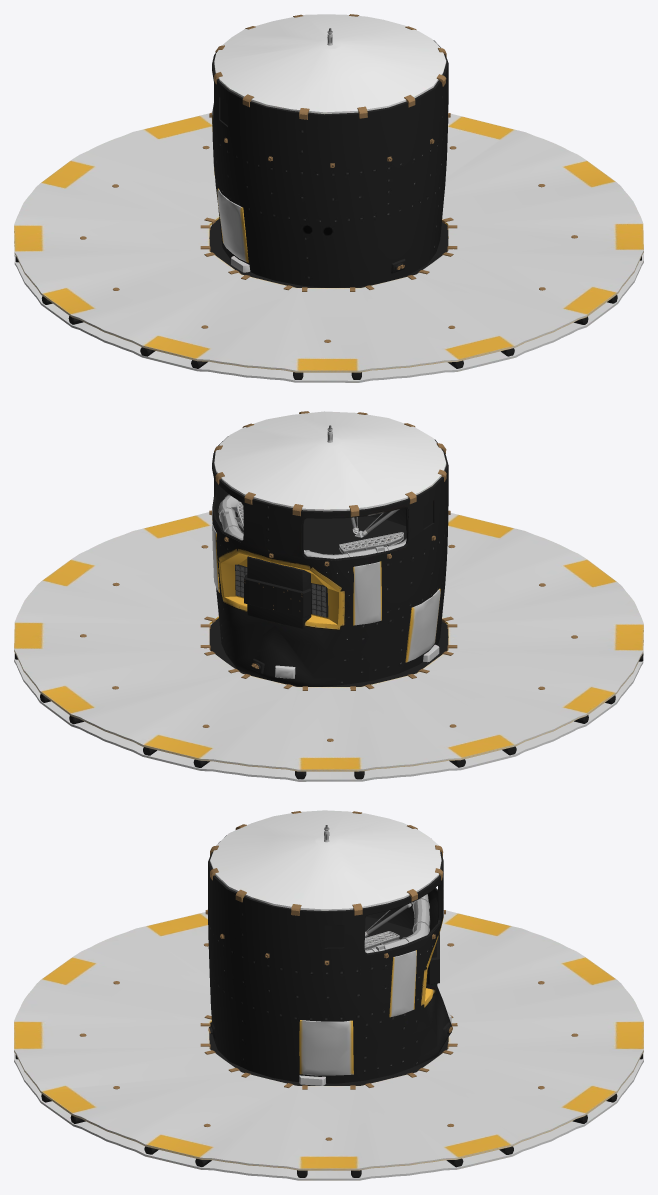
Rendered from gaia.glb.
3 renders of one model, top to bottom at view 1: azimuth 30°, elevation 25°; view 2: azimuth 150°, elevation 25°; view 3: azimuth 270°, elevation 25°, orthographic.
Visible parts, largest first — view 1: SM_Gaia_low; view 2: SM_Gaia_low; view 3: SM_Gaia_low.
Part boxes in pixels (<box>): SM_Gaia_low: <box>14,14,643,382</box>; SM_Gaia_low: <box>14,411,643,781</box>; SM_Gaia_low: <box>14,810,643,1180</box>.
Size of the model in its own units: 197 by 79.23 by 197.
2 materials, 2 textured.
